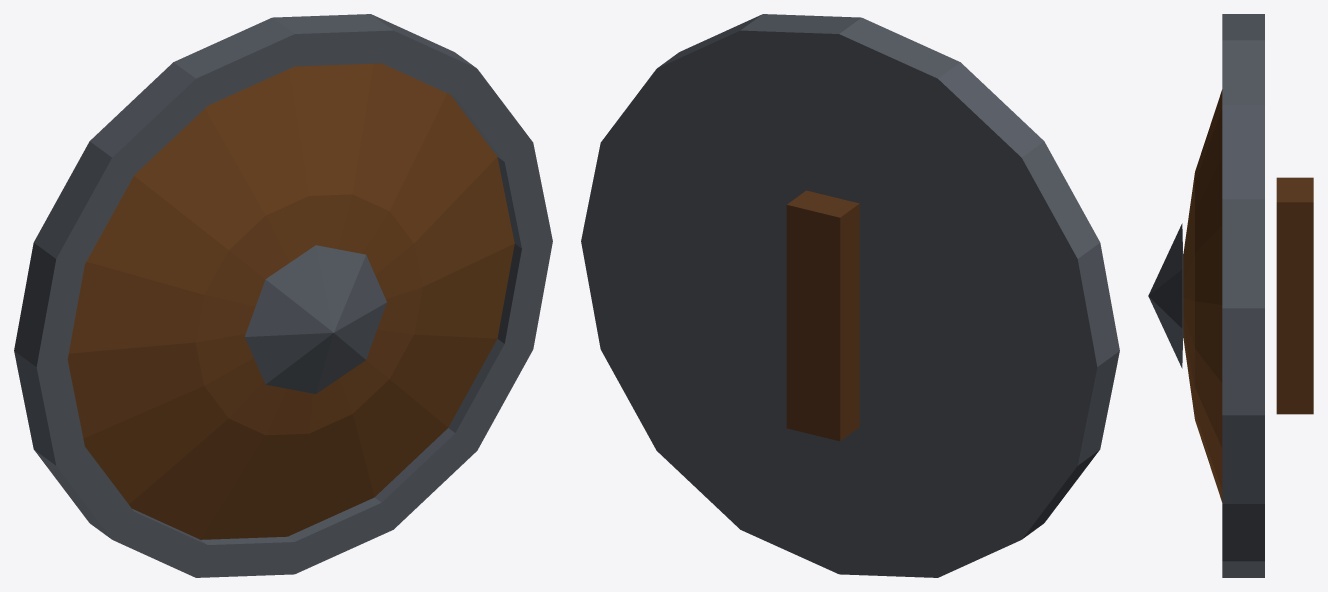
Rendered from shield_buckler_common.glb.
3 renders of one model, left to right at view 1: azimuth 30°, elevation 25°; view 2: azimuth 150°, elevation 25°; view 3: azimuth 270°, elevation 25°, orthographic. The views are drawn at different scales.
Parts seen in each view (by area): view 1: shield_buckler_common; view 2: shield_buckler_common; view 3: shield_buckler_common.
Boxes of the visible parts, bbox=[...] form: shield_buckler_common: bbox=[14, 14, 552, 577]; shield_buckler_common: bbox=[581, 14, 1119, 577]; shield_buckler_common: bbox=[1148, 14, 1313, 577].
Bounding box in the file's own units: 58 × 58 × 17.
